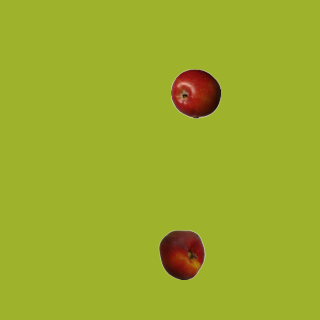Apple Braeburn: (170, 68, 220, 118)
Nectarine Flat: (156, 229, 206, 279)
